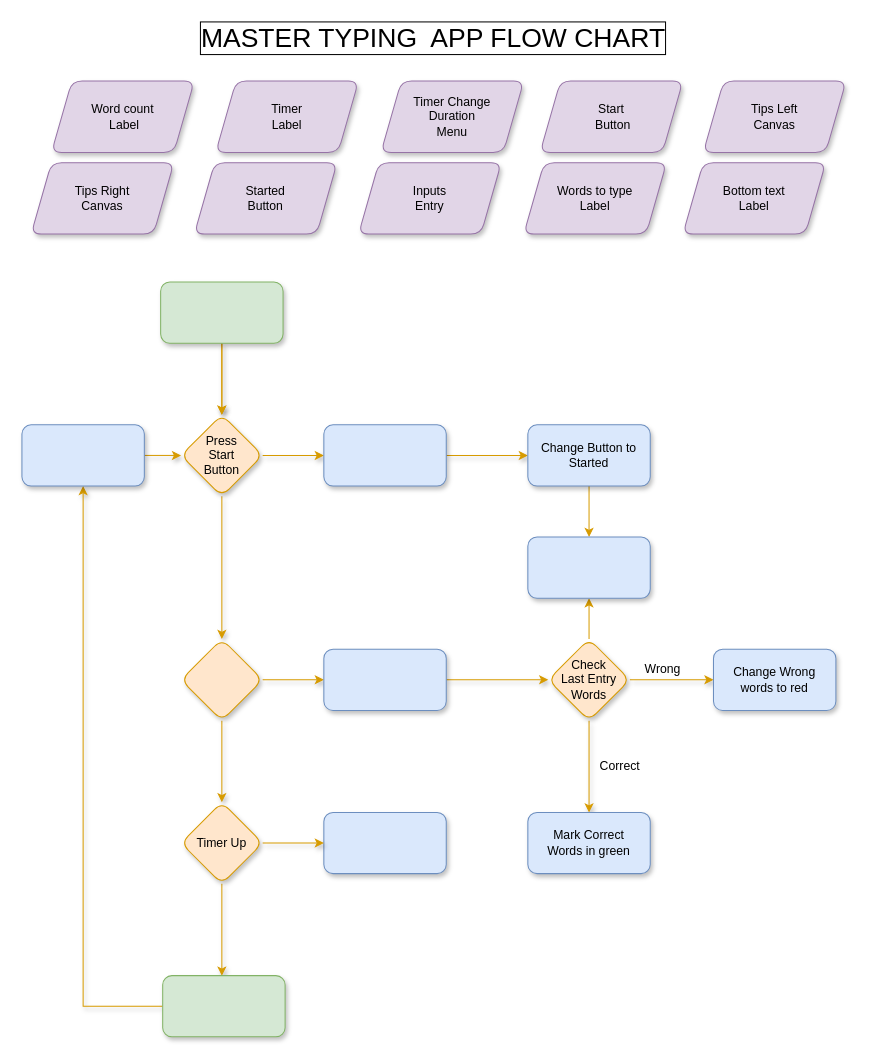
Image size: 870x1062. Some labels were removed from this diagram. The centre of each missing label's shape, as x and y in pixels:
"Count the number of correctly typed words" goes at point (589, 568).
"End" goes at point (224, 1007).
"Freeze Entry" goes at point (385, 844).
"Load new words from data" goes at point (83, 456).
"Move Focus to Next Entry" goes at point (385, 681).
"Press Enter" goes at point (222, 681).
"Start" goes at point (222, 313).
"Start Timer" goes at point (385, 456).
